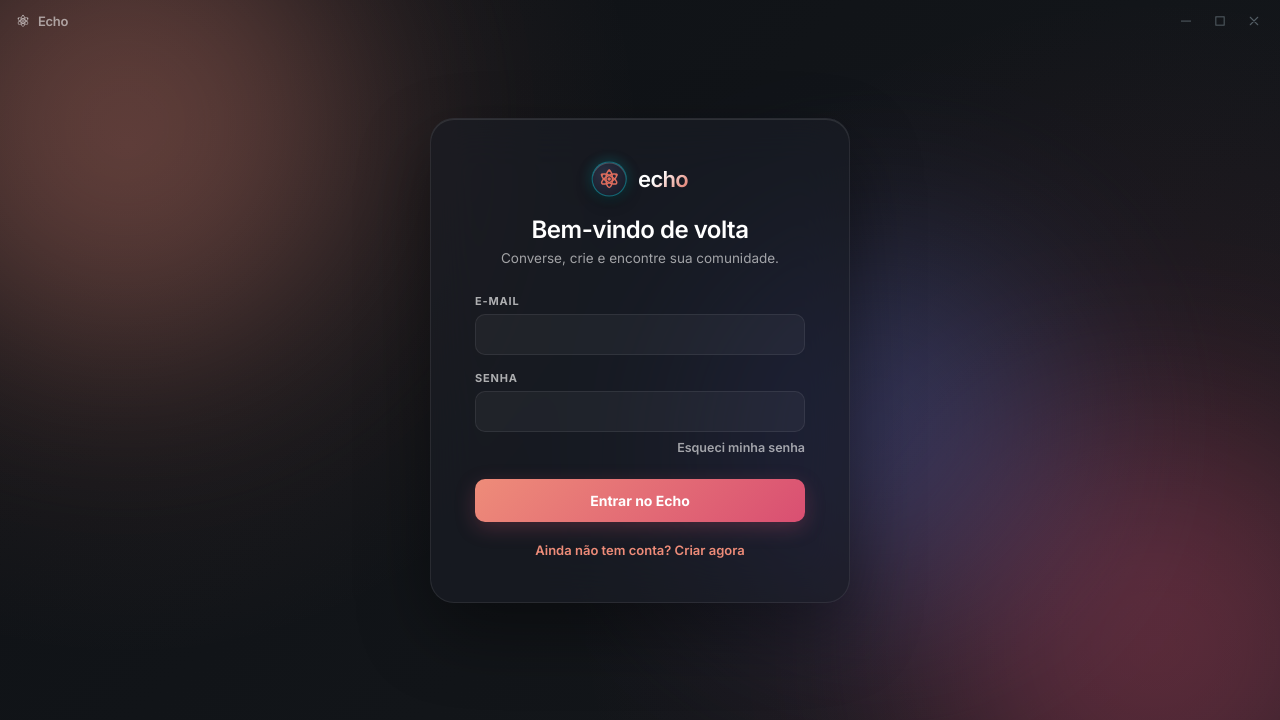
Test case: Tela de login › cria conta com o nome informado e avisa para fazer login
The width and height of the screenshot is (1280, 720).
Click the button "Ainda não tem conta? Criar agora" at point(640, 550), box x1=535 y1=542 x2=745 y2=558
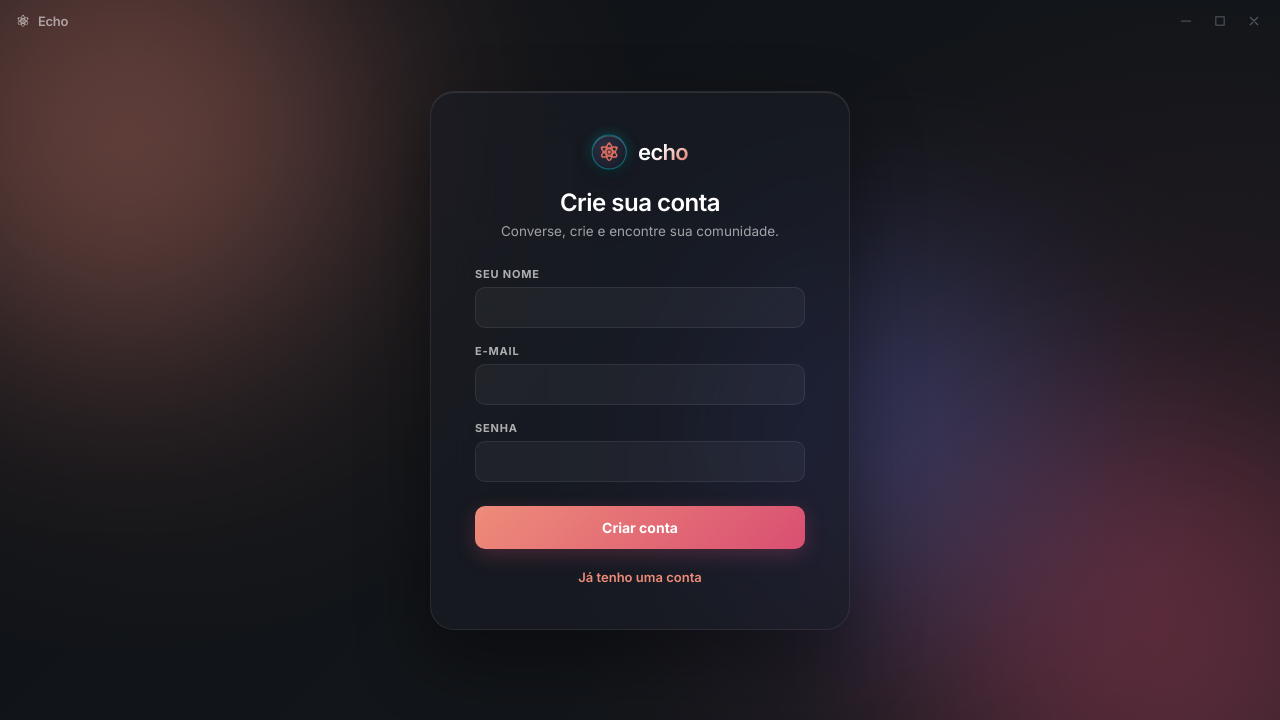
Type "Ana" into the field labelled "Seu nome" at point(640, 307), box x1=475 y1=286 x2=805 y2=328
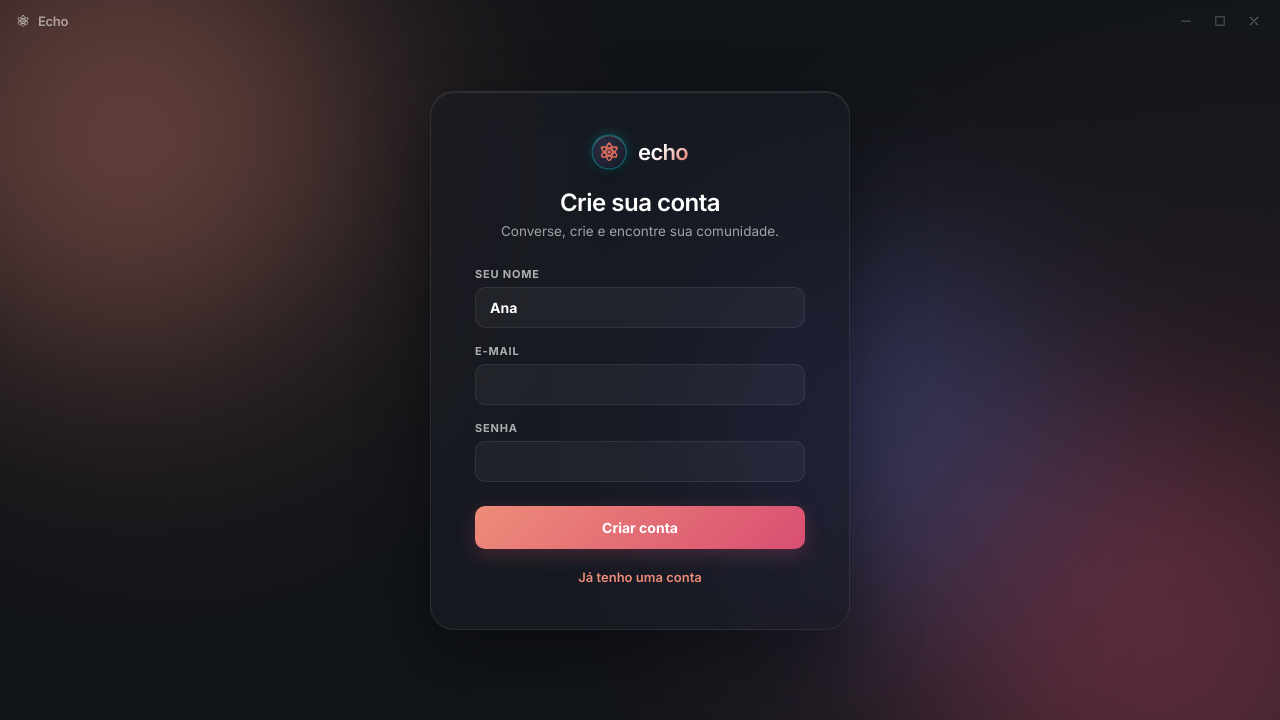
Type "ana@exemplo.test" into the field labelled "E-mail" at point(640, 384), box x1=475 y1=364 x2=805 y2=404
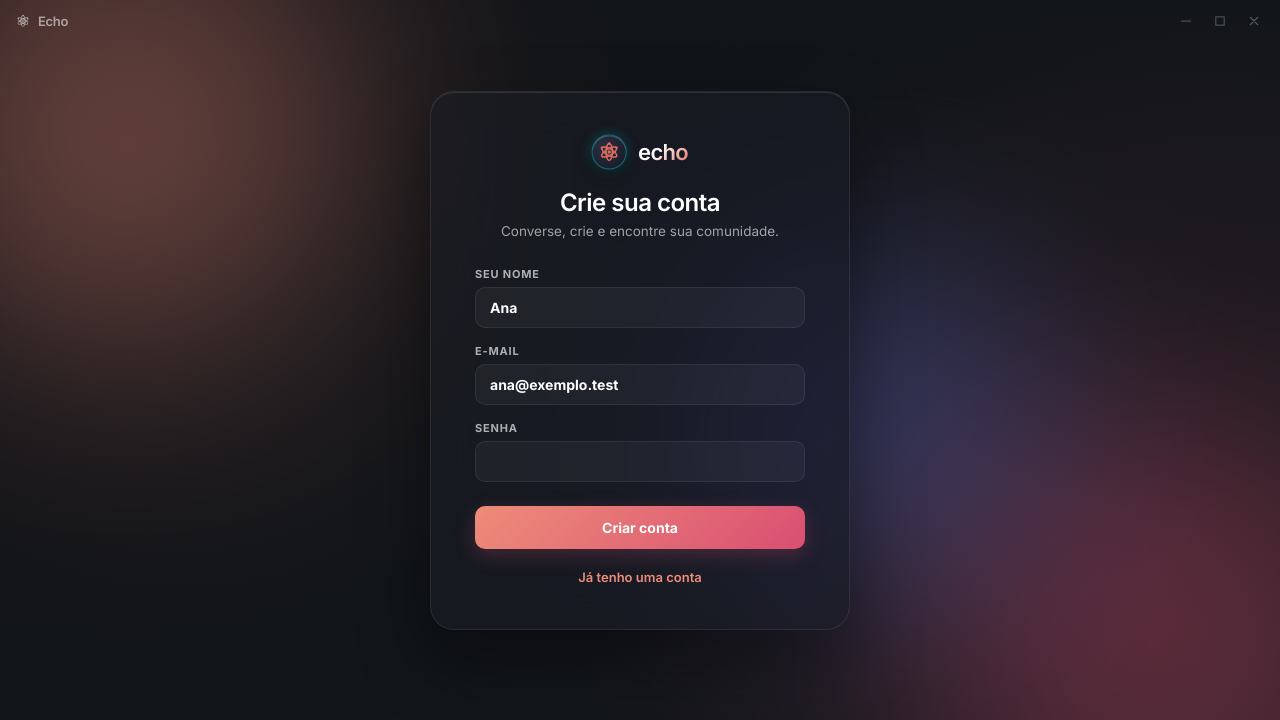
Type "segredo-1" into the password field labelled "Senha" at point(640, 461), box x1=475 y1=440 x2=805 y2=482
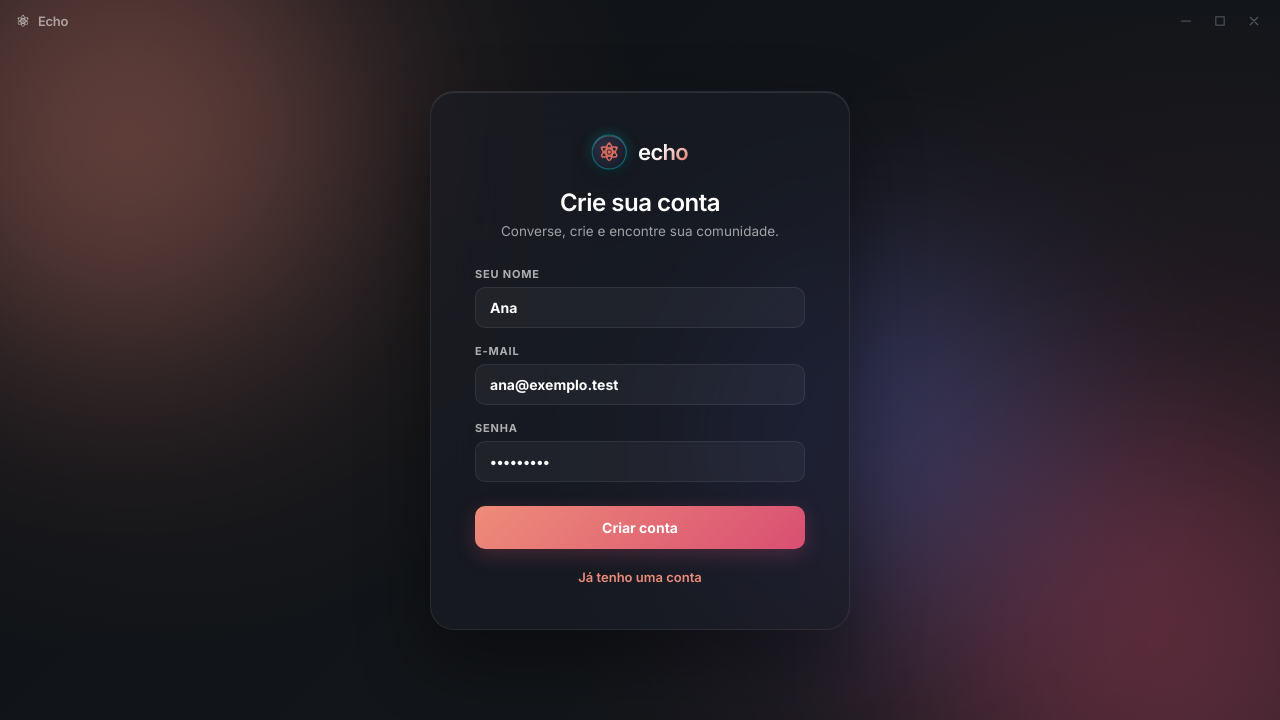
Submit the form, box x1=475 y1=266 x2=805 y2=548
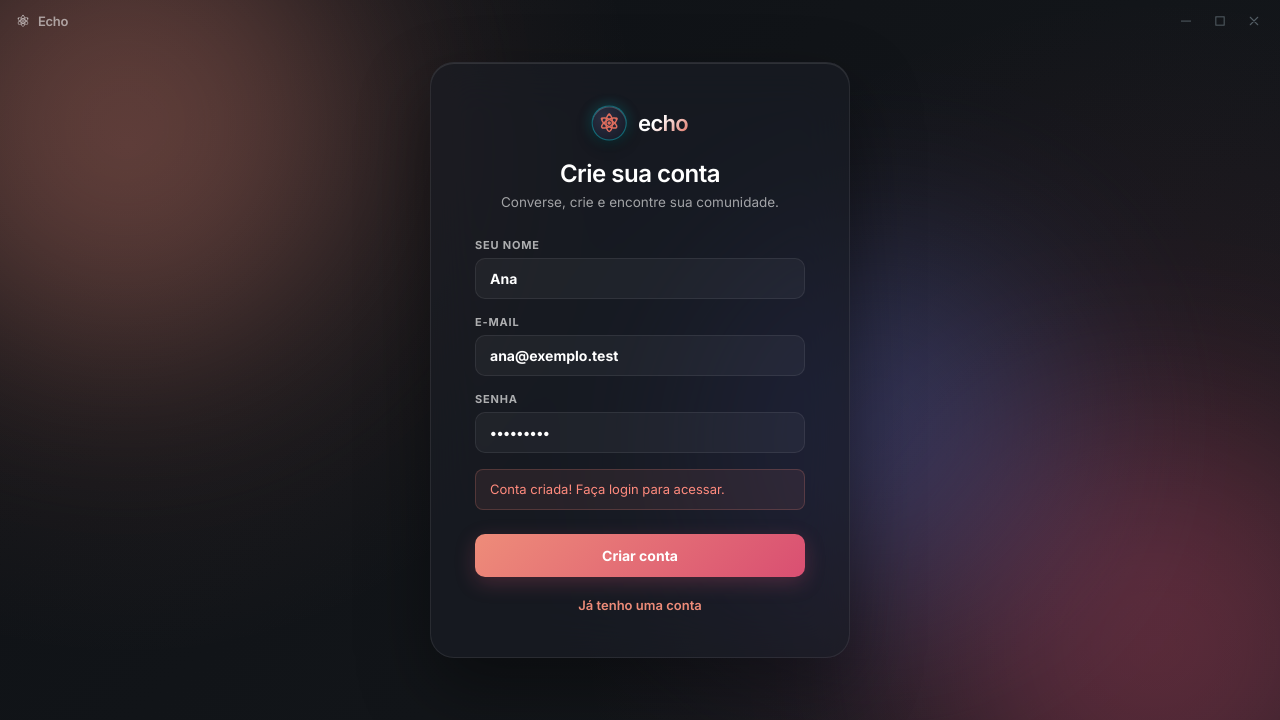
Result: the text "Conta criada! Faça login para acessar." is shown at x1=475 y1=469 x2=805 y2=510
